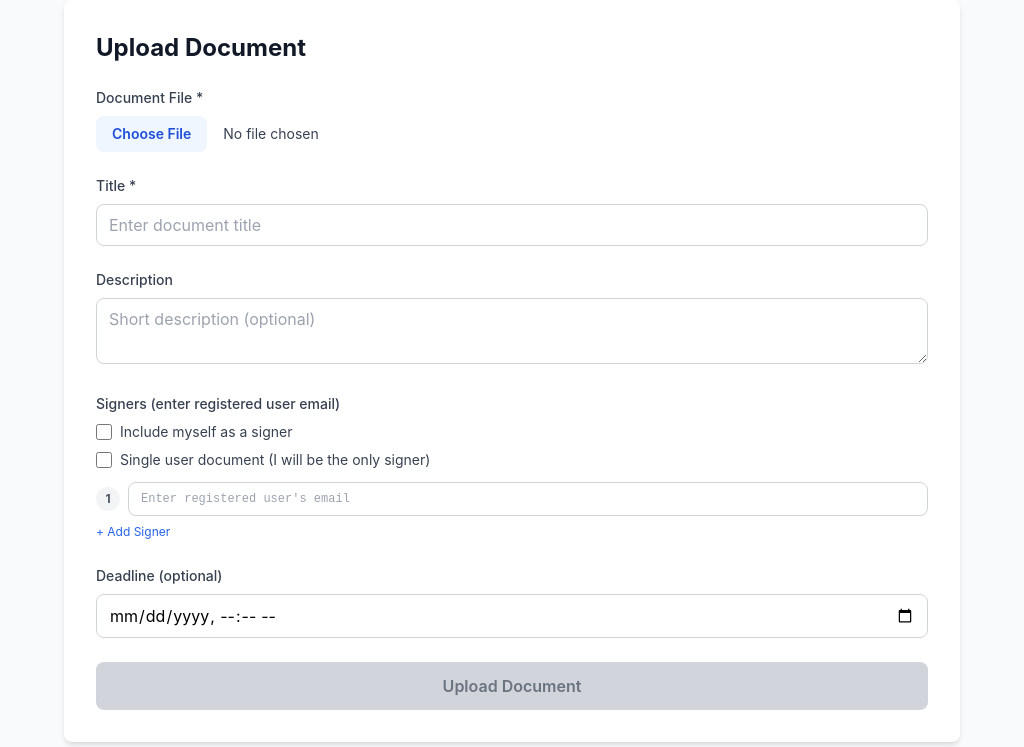
DocumentUpload Component › handles single user document option
Click the text "Single user document (I will be the only signer)".
click(275, 460)  # box [120,450,430,470]
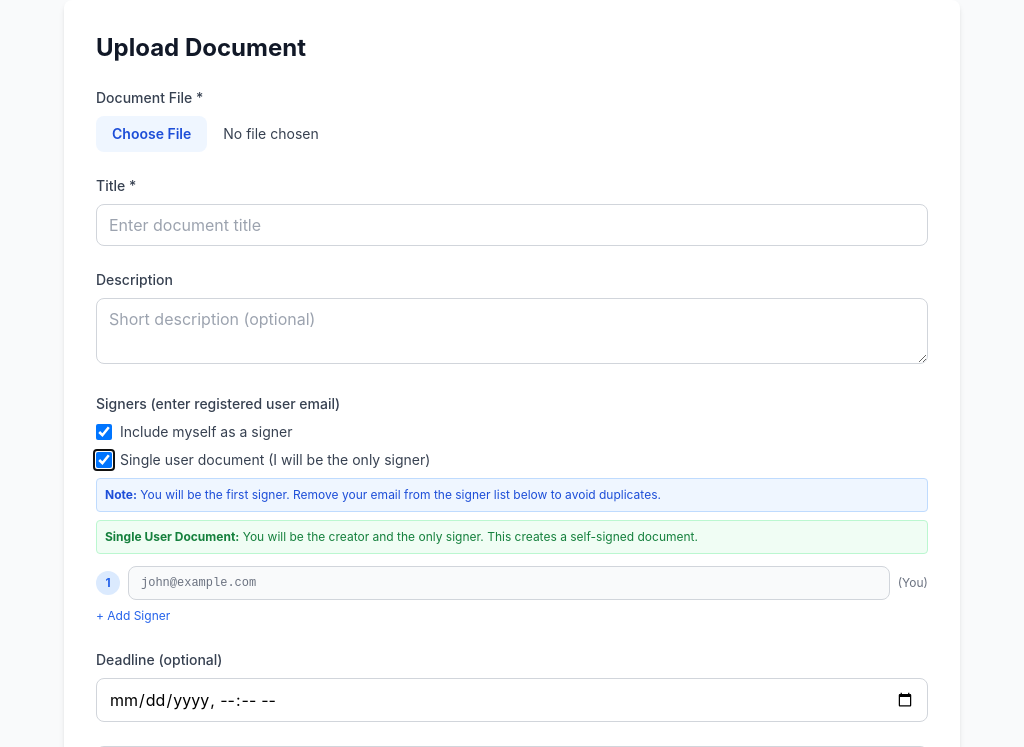
Result: the text "You will be the creator and the only signer" is shown at [239,529,698,544]
